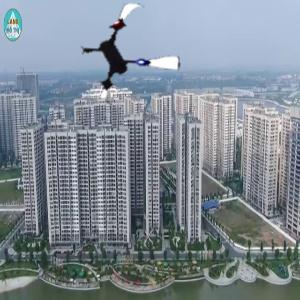drone: (76, 1, 186, 111)
